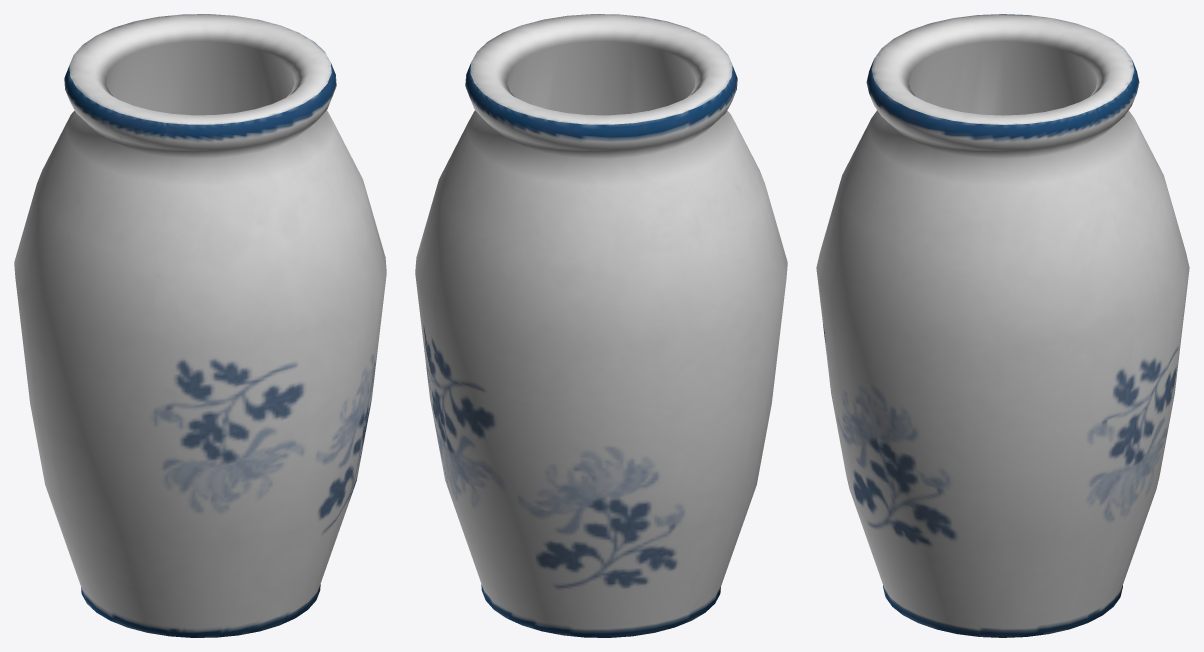
The model's file is jov_porcelain01b.fbx.
3 views of the same model, side by side, from view 1: azimuth 30°, elevation 25°; view 2: azimuth 150°, elevation 25°; view 3: azimuth 270°, elevation 25° (orthographic).
Parts seen in each view (by area): view 1: jov_porcelain01b; view 2: jov_porcelain01b; view 3: jov_porcelain01b.
Part boxes in pixels (<box>): jov_porcelain01b: <box>14,14,386,637</box>; jov_porcelain01b: <box>415,14,787,637</box>; jov_porcelain01b: <box>816,14,1189,637</box>.
Size of the model in its own units: 0.1945 by 0.2976 by 0.1945.
